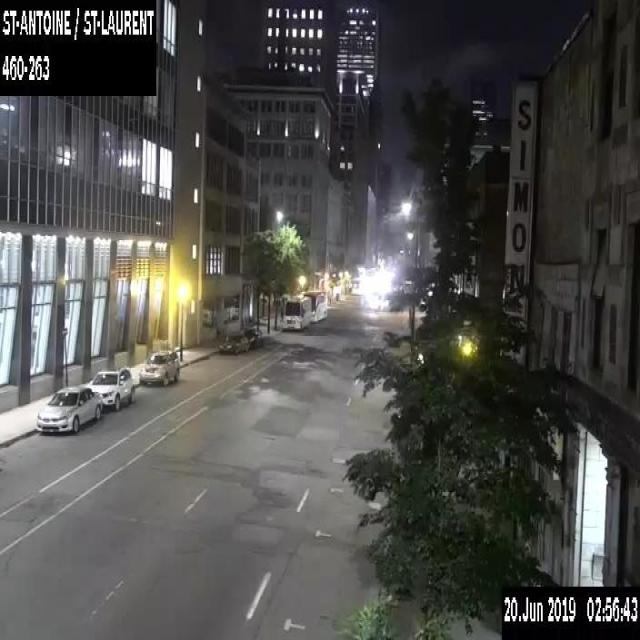bus: (282, 295, 311, 329), (300, 289, 327, 321)
vehicle: (34, 384, 102, 434), (88, 366, 136, 410), (138, 349, 179, 385), (218, 332, 248, 353), (242, 327, 262, 350)
